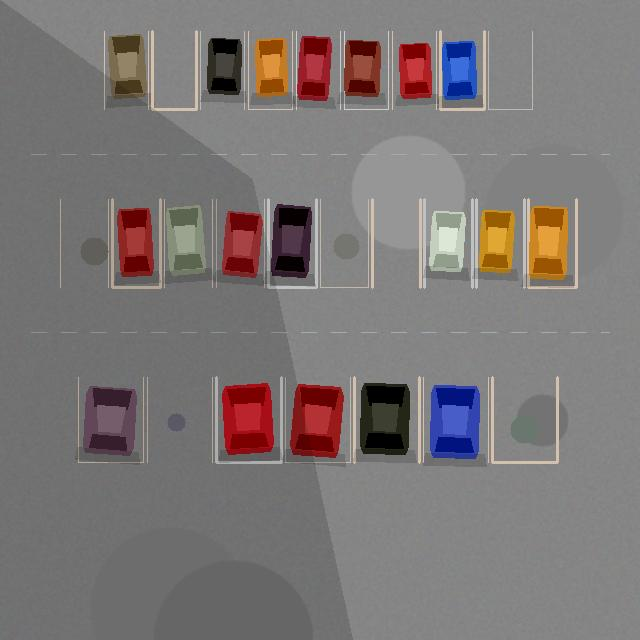space-empty: (147, 377, 212, 462), (492, 377, 557, 462), (60, 199, 108, 287), (320, 199, 368, 287), (372, 199, 420, 287), (152, 31, 196, 109), (488, 31, 532, 109)
space-occupied: (78, 377, 143, 462), (216, 377, 281, 462), (285, 377, 350, 462), (354, 377, 419, 462), (423, 377, 488, 462), (112, 199, 160, 287), (164, 199, 212, 287), (216, 199, 264, 287), (268, 199, 316, 287), (424, 199, 472, 287), (476, 199, 524, 287), (528, 199, 576, 287), (104, 31, 148, 109), (200, 31, 244, 109), (248, 31, 292, 109), (296, 31, 340, 109), (344, 31, 388, 109), (392, 31, 436, 109), (440, 31, 484, 109)
